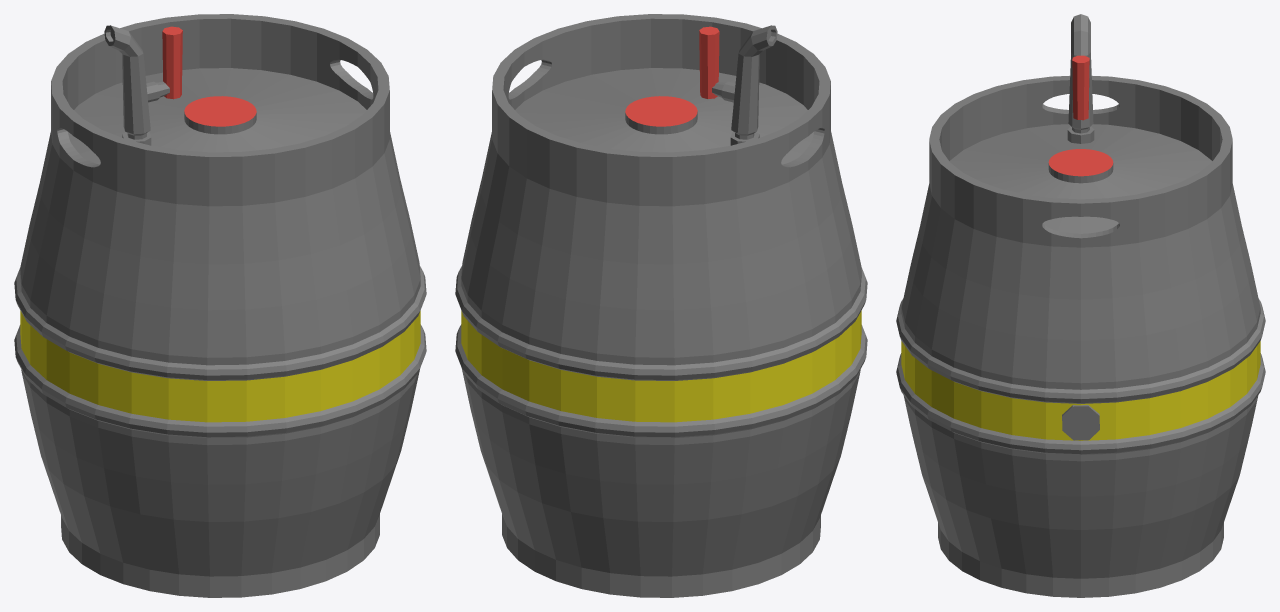
The model's file is Barrel.fbx.
The picture shows the model from 3 angles, left to right: view 1: azimuth 30°, elevation 25°; view 2: azimuth 150°, elevation 25°; view 3: azimuth 270°, elevation 25°; orthographic projection. The views are drawn at different scales.
Visible parts, largest first — view 1: Barrel, Tap, Handle; view 2: Barrel, Tap, Handle; view 3: Barrel, Tap, Handle.
Boxes of the visible parts, bbox=[...] form: Barrel: bbox=[14, 14, 426, 597]; Tap: bbox=[104, 25, 160, 139]; Handle: bbox=[156, 26, 182, 99]; Barrel: bbox=[455, 14, 867, 597]; Tap: bbox=[721, 25, 777, 139]; Handle: bbox=[699, 26, 725, 98]; Barrel: bbox=[896, 75, 1265, 597]; Tap: bbox=[1068, 14, 1093, 133]; Handle: bbox=[1072, 55, 1089, 120].
Bounding box in the file's own units: 41.18 × 58.49 × 41.18.
